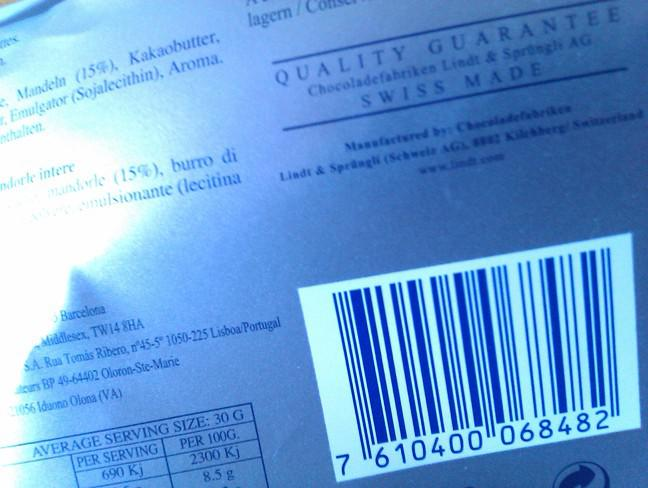Barkod: (298, 235, 639, 481)
